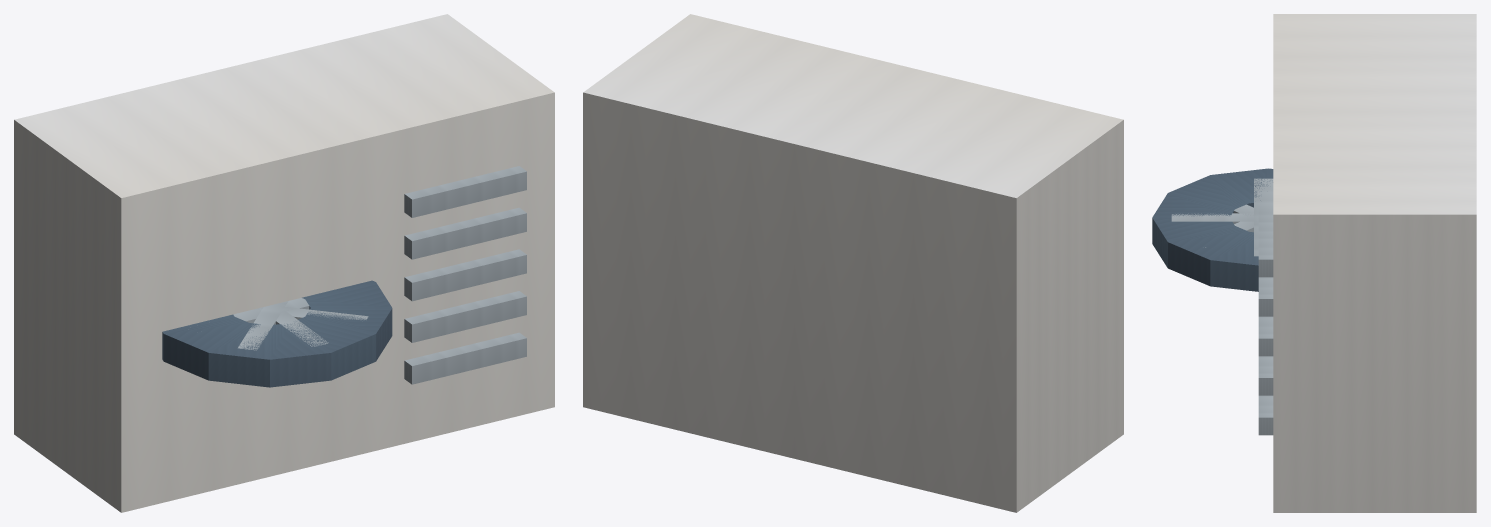
Rendered from ac_unit.glb.
3 renders of one model, left to right at view 1: azimuth 30°, elevation 25°; view 2: azimuth 150°, elevation 25°; view 3: azimuth 270°, elevation 25°, orthographic. The views are drawn at different scales.
Parts seen in each view (by area): view 1: ac_unit; view 2: ac_unit; view 3: ac_unit.
Part boxes in pixels (left/top/right/bottom): ac_unit: left=14, top=14, right=554, bottom=512; ac_unit: left=583, top=14, right=1123, bottom=512; ac_unit: left=1152, top=14, right=1476, bottom=512.
Bounding box in the file's own units: 0.98 × 0.68 × 0.67.
Materials: 1 (1 with a texture image).
